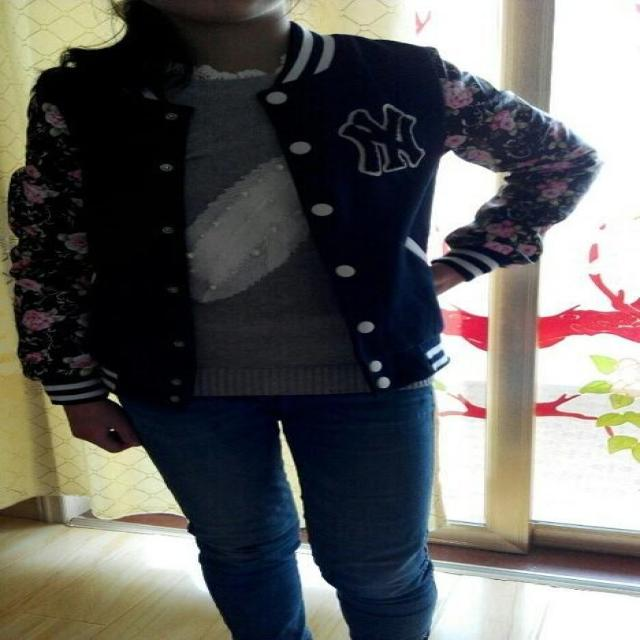long sleeve outwear: (12, 56, 193, 405)
trousers: (103, 317, 436, 639)
